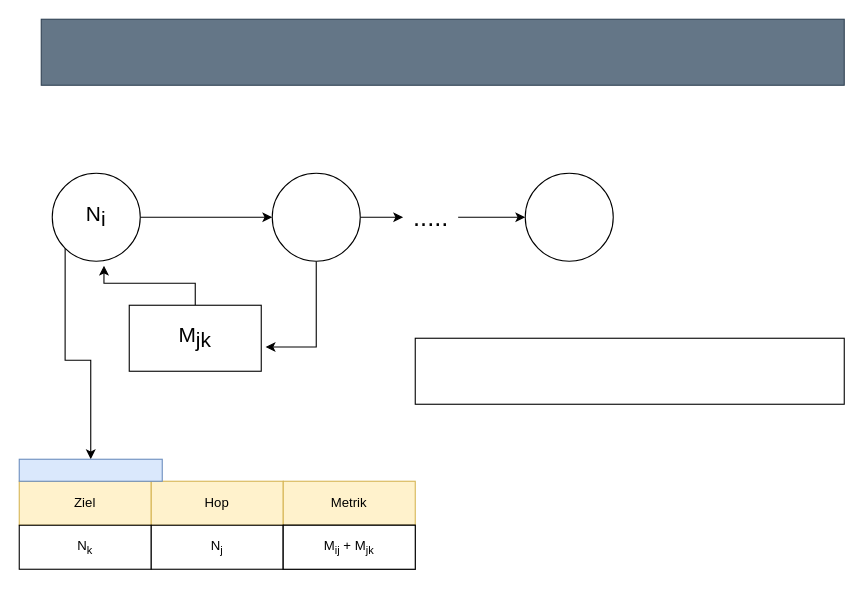
The diagram is 864 pixels wide and 589 high, and some of its shapes have lost their labels. Here are the shapes that lost their labels. From the top down, the centre of each, then its label:
the point at 442,51: Routingtabelle Distance Vector Verfahren (AdHoc Netwerk) reactiv
the point at 315,216: N2
the point at 568,216: Nk
the point at 90,469: Beispieltabelle von N1
